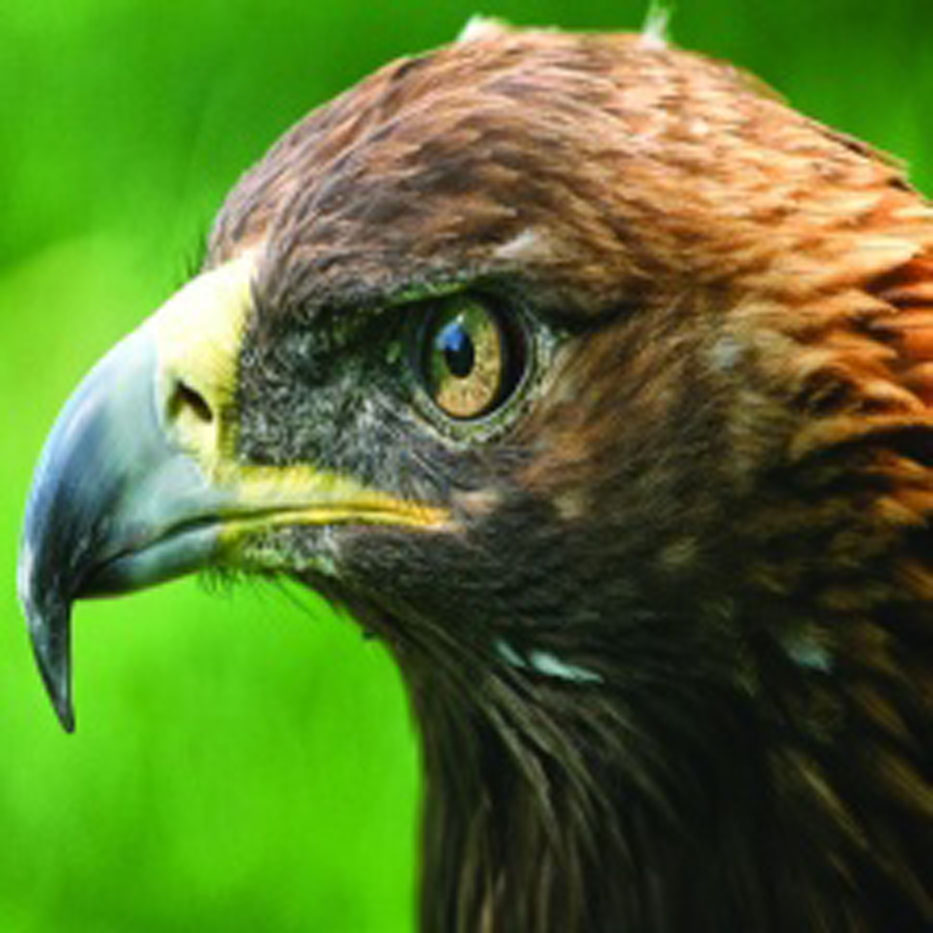Pengoyak Daging: (1, 330, 256, 748)
